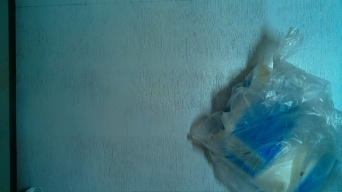m: (195, 60, 339, 192)
